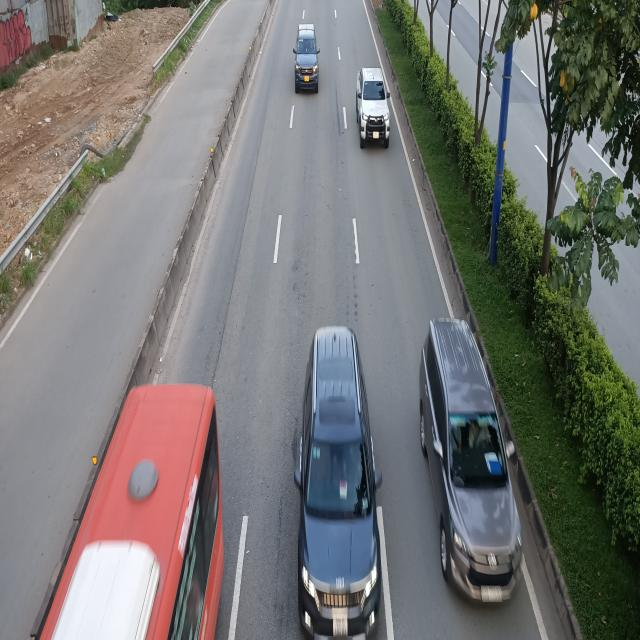car: (296, 324, 388, 637), (416, 317, 517, 602), (355, 69, 391, 151), (292, 25, 320, 94)
coach: (27, 383, 227, 640)
